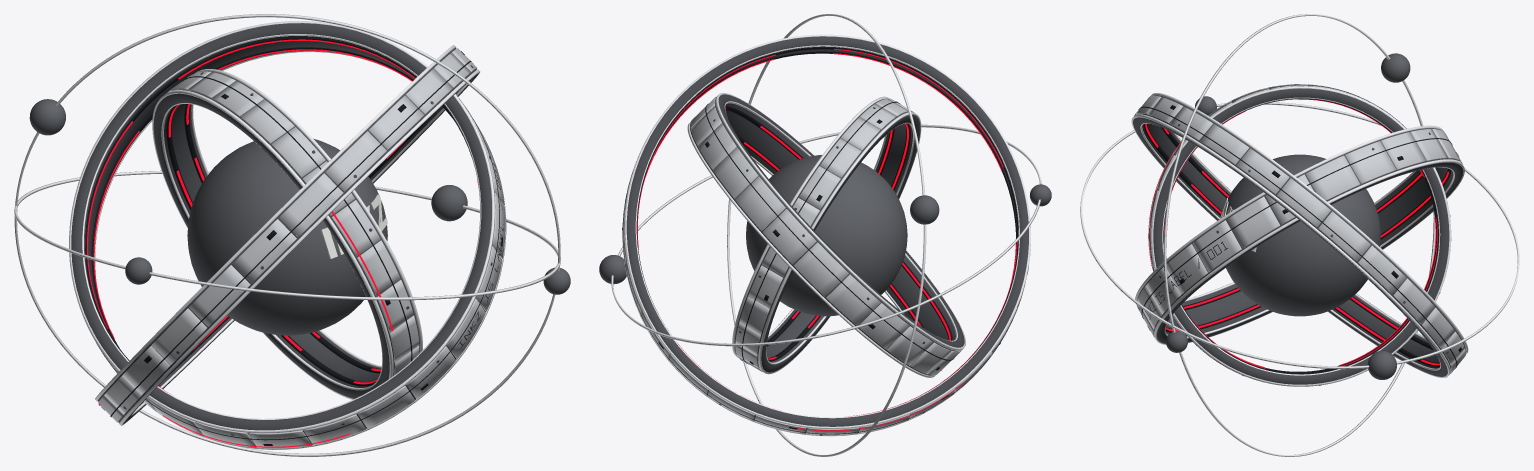
Rendered from inkz-rings.glb.
3 renders of one model, left to right at view 1: azimuth 30°, elevation 25°; view 2: azimuth 150°, elevation 25°; view 3: azimuth 270°, elevation 25°, orthographic. The views are drawn at different scales.
Parts seen in each view (by area): view 1: Ring_Primary, INKZ_Core, Tertiary_Titanium_Panels, Secondary_Titanium_Panels, Ring_Secondary, Primary_Titanium_Panels, Primary_Polished_Rails, Orbit_Filament_2, Secondary_Polished_Rails, Tertiary_Polished_Rails, Ring_Tertiary, Orbit_Filament_1 (+12 smaller); view 2: Ring_Tertiary, Primary_Titanium_Panels, INKZ_Core, Ring_Primary, Secondary_Titanium_Panels, Tertiary_Polished_Rails, Ring_Secondary, Primary_Polished_Rails, Tertiary_Titanium_Panels, Orbit_Filament_2, Secondary_Polished_Rails, Tertiary_Channel_Housings (+10 smaller); view 3: INKZ_Core, Primary_Titanium_Panels, Tertiary_Titanium_Panels, Ring_Secondary, Ring_Primary, Ring_Tertiary, Tertiary_Polished_Rails, Primary_Polished_Rails, Secondary_Polished_Rails, Orbit_Filament_2, Orbit_Filament_1, Tertiary_Channel_Housings (+10 smaller).
Boxes of the visible parts, x1,y1,x2,y2 form: Ring_Primary: (71, 23, 492, 445); INKZ_Core: (187, 138, 387, 335); Tertiary_Titanium_Panels: (98, 48, 476, 422); Secondary_Titanium_Panels: (164, 71, 419, 375); Ring_Secondary: (153, 71, 419, 398); Primary_Titanium_Panels: (83, 94, 505, 448); Primary_Polished_Rails: (69, 21, 506, 449); Orbit_Filament_2: (14, 14, 560, 456); Secondary_Polished_Rails: (152, 69, 422, 399); Tertiary_Polished_Rails: (95, 45, 480, 425); Ring_Tertiary: (98, 48, 478, 424); Orbit_Filament_1: (14, 170, 560, 300); Ring_Tertiary: (626, 36, 1028, 433); Primary_Titanium_Panels: (690, 96, 962, 375); INKZ_Core: (746, 155, 907, 316); Ring_Primary: (690, 94, 964, 375); Secondary_Titanium_Panels: (735, 98, 914, 371); Tertiary_Polished_Rails: (624, 34, 1030, 436); Ring_Secondary: (734, 98, 920, 372); Primary_Polished_Rails: (687, 93, 965, 377); Tertiary_Titanium_Panels: (622, 125, 1030, 435); Orbit_Filament_2: (727, 14, 926, 456); Secondary_Polished_Rails: (732, 96, 921, 374); Tertiary_Channel_Housings: (636, 47, 1018, 402); INKZ_Core: (1226, 154, 1380, 316); Primary_Titanium_Panels: (1136, 129, 1462, 337); Tertiary_Titanium_Panels: (1134, 95, 1465, 373); Ring_Secondary: (1153, 88, 1449, 384); Ring_Primary: (1137, 128, 1463, 343); Ring_Tertiary: (1133, 95, 1466, 376); Tertiary_Polished_Rails: (1131, 93, 1468, 377); Primary_Polished_Rails: (1135, 125, 1464, 344); Secondary_Polished_Rails: (1149, 84, 1451, 386); Orbit_Filament_2: (1163, 14, 1435, 456); Orbit_Filament_1: (1080, 102, 1519, 369); Tertiary_Channel_Housings: (1143, 123, 1440, 367).
Bounding box in the file's own units: 4.14 × 4.13 × 4.18.
